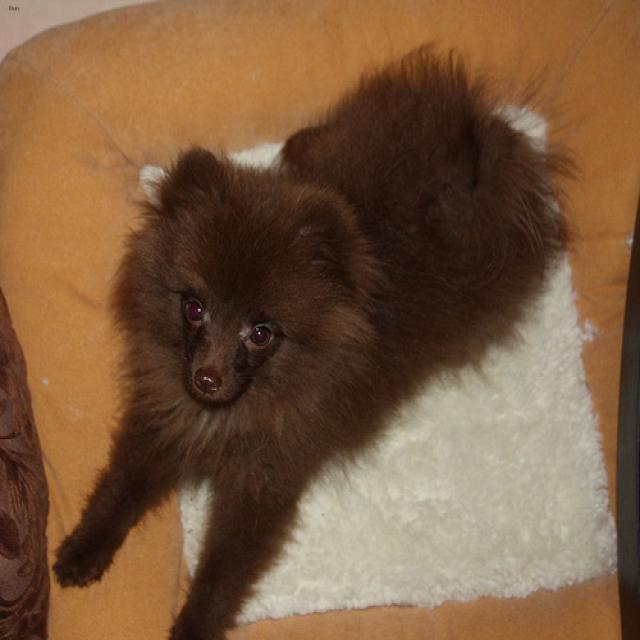dog-pomeranian: (41, 43, 603, 637)
